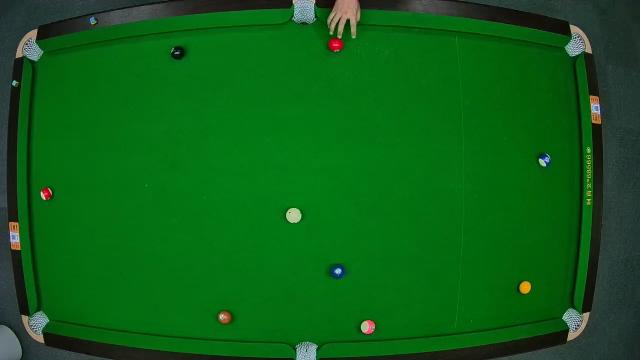bag1: (20, 40, 42, 62)
bag2: (292, 2, 316, 26)
bag4: (29, 311, 49, 333)
bag5: (294, 340, 318, 360)
bag6: (562, 308, 582, 330)
ball0: (286, 208, 302, 224)
ball1: (518, 280, 534, 296)
ball10: (536, 153, 552, 169)
ball11: (40, 187, 52, 201)
ball12: (360, 318, 374, 336)
ball2: (331, 263, 347, 279)
ball3: (329, 36, 343, 52)
ball7: (217, 309, 233, 325)
ball8: (170, 46, 186, 61)
